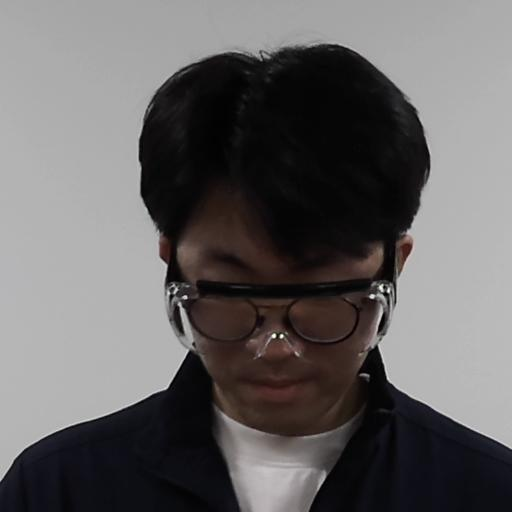glasses: (118, 42, 441, 445)
